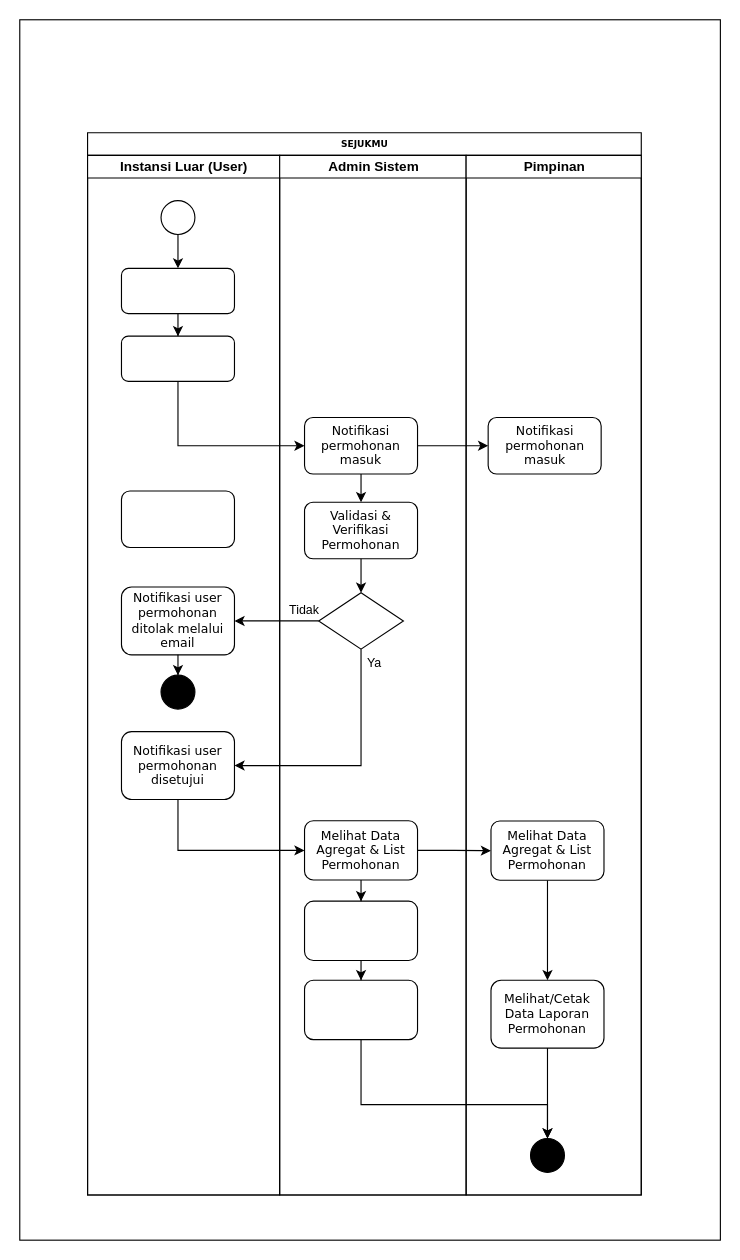
The diagram is 740 pixels wide and 1260 high, and some of its shapes have lost their labels. The box of each missing label's shape, as (x1, y1, x2, y2) in pixels:
Disetujui?: (318, 592, 403, 649)
Input Data Form Permohonan: (120, 267, 234, 314)
Input data rombongan: (120, 335, 234, 381)
Notifikasi permohonan diproses: (120, 490, 234, 547)
Pilih Nama TTD Form Absensi: (303, 900, 418, 960)
Print/Cetak Formulir Absensi: (303, 979, 418, 1040)
